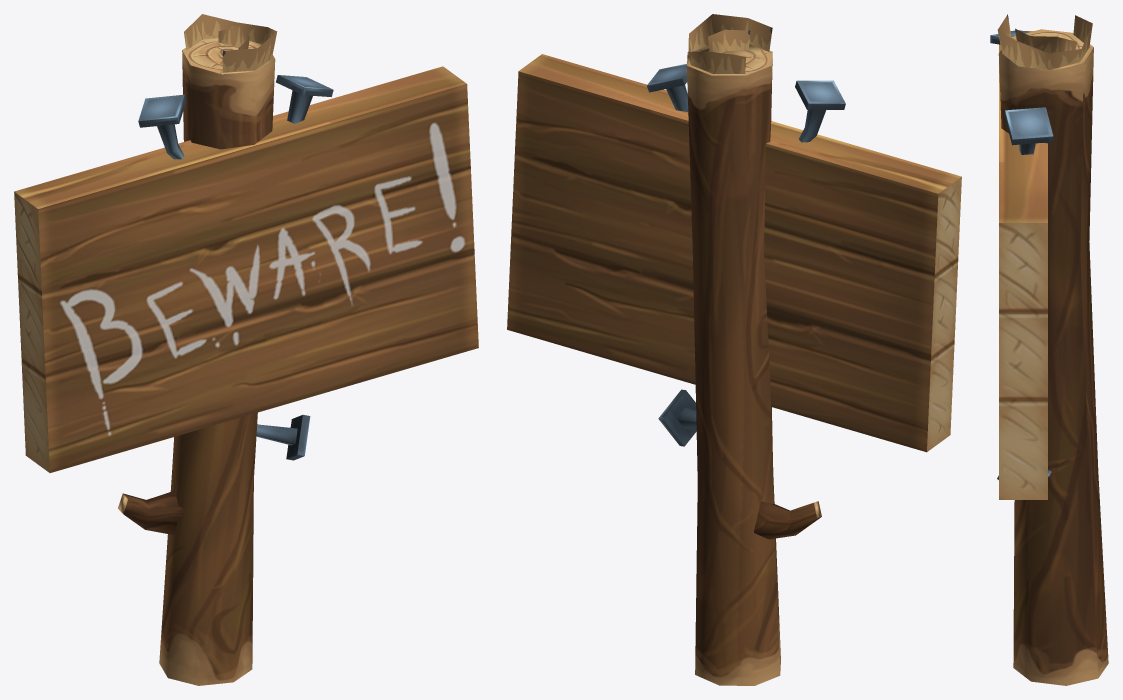
The model's file is sign_beware.fbx.
3 views of the same model, side by side, from view 1: azimuth 30°, elevation 25°; view 2: azimuth 150°, elevation 25°; view 3: azimuth 270°, elevation 25° (orthographic). The views are drawn at different scales.
Parts seen in each view (by area): view 1: sign_beware:Mesh; view 2: sign_beware:Mesh; view 3: sign_beware:Mesh.
Boxes of the visible parts, x1,y1,x2,y2 form: sign_beware:Mesh: (14,14,478,685); sign_beware:Mesh: (507,14,961,685); sign_beware:Mesh: (990,14,1108,685).
Size of the model in its own units: 3.41 by 4.73 by 0.7807.
